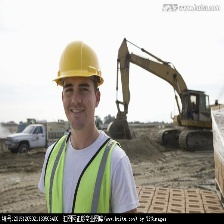helmet: (53, 41, 106, 92)
person: (39, 38, 137, 213)
vest: (39, 128, 124, 213)
